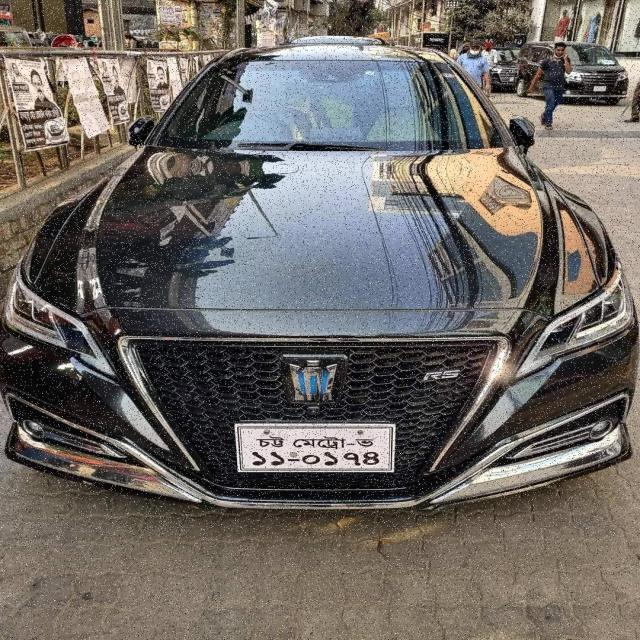numberplate: (233, 420, 396, 474)
